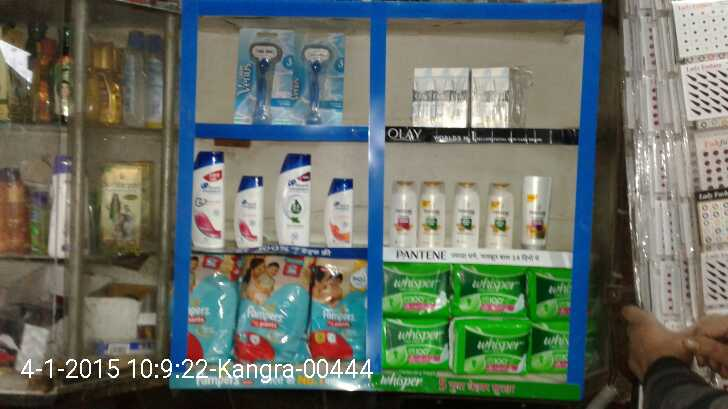venus: (235, 32, 291, 123), (291, 32, 339, 126)
